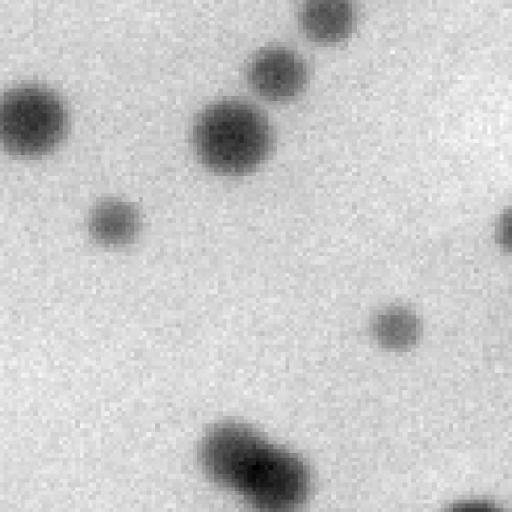Nanoparticles: (186, 94, 282, 180), (0, 78, 77, 159), (234, 444, 314, 512), (193, 416, 274, 482), (244, 39, 316, 107), (288, 0, 366, 50), (89, 194, 147, 251), (372, 306, 422, 352), (489, 200, 512, 262)
